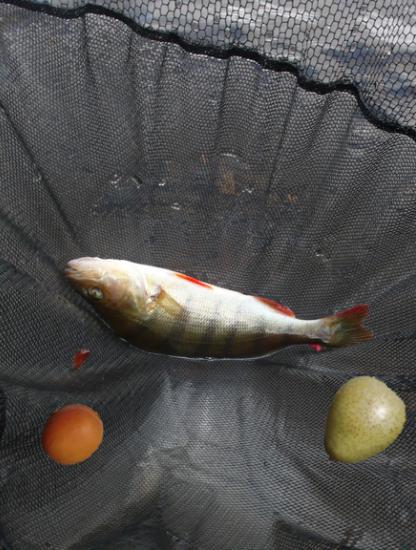Apricot: (39, 401, 105, 467)
Pear: (313, 376, 411, 474)
